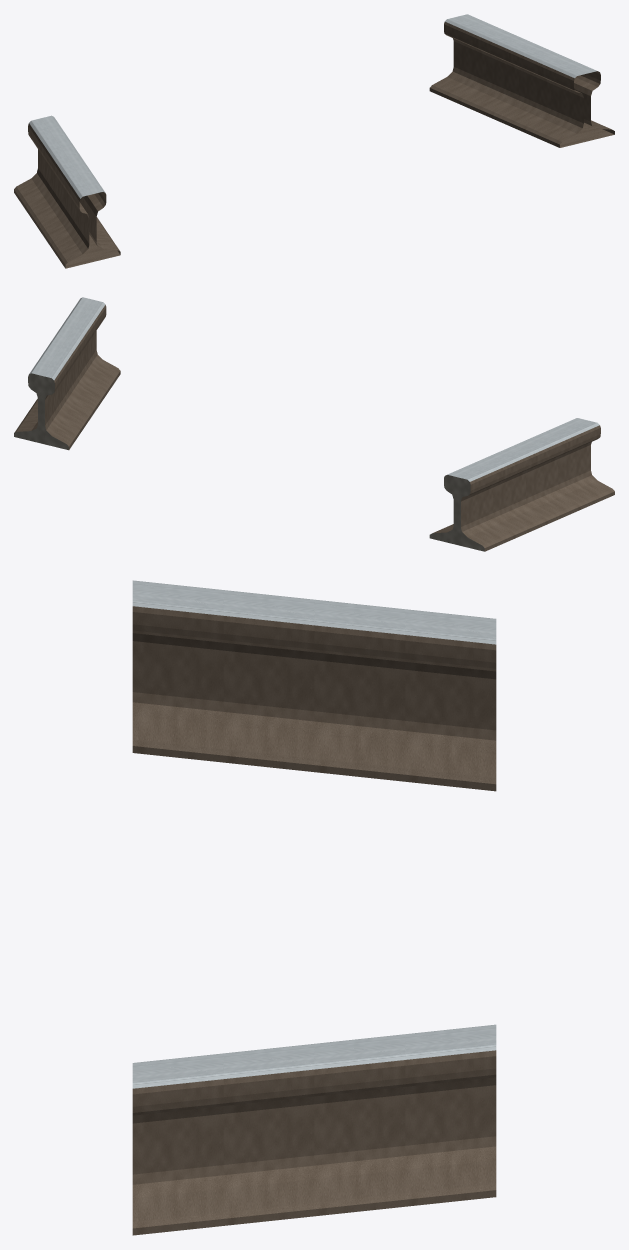
File: outer_guard_endpoint.obj
3 renders of one model, top to bottom at view 1: azimuth 30°, elevation 25°; view 2: azimuth 150°, elevation 25°; view 3: azimuth 270°, elevation 25°, orthographic. The views are drawn at different scales.
Parts seen in each view (by area): view 1: terminal_right, terminal_left; view 2: terminal_left, terminal_right; view 3: terminal_left, terminal_right.
Part boxes in pixels (x1,y1,x2,y2): terminal_right: (429,14,614,147); terminal_left: (14,115,120,268); terminal_left: (429,418,614,551); terminal_right: (14,297,120,450); terminal_left: (132,580,496,791); terminal_right: (132,1024,496,1235).
Size of the model in its own units: 1.4 by 0.1649 by 0.4.
